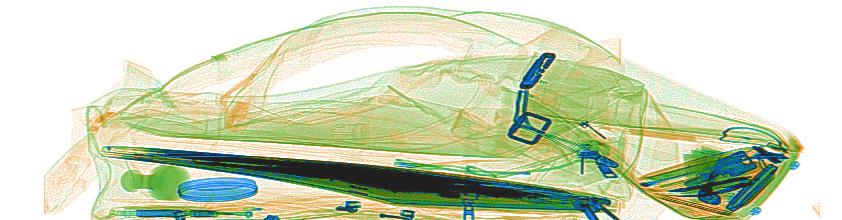seal: (118, 163, 190, 203)
